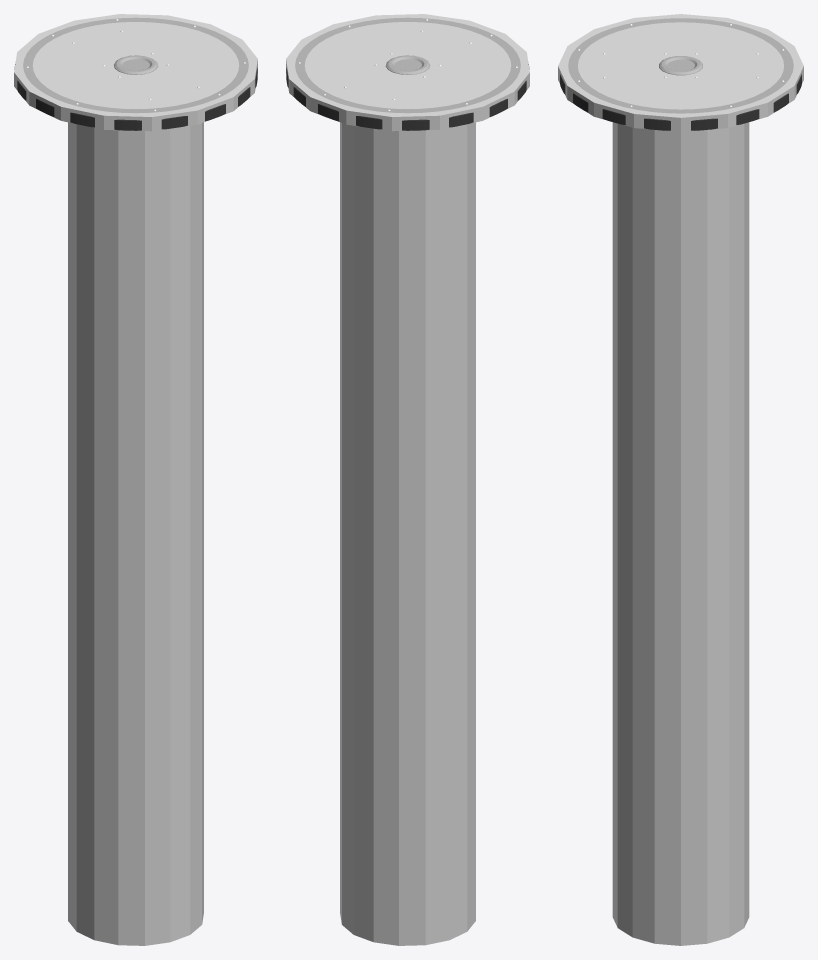
Rendered from Arena_Two_Factions.fbx.
The picture shows the model from 3 angles, left to right: view 1: azimuth 30°, elevation 25°; view 2: azimuth 150°, elevation 25°; view 3: azimuth 270°, elevation 25°; orthographic projection.
Parts seen in each view (by area): view 1: Arena_Platform_Col, Arena_Two_Factions; view 2: Arena_Platform_Col, Arena_Two_Factions; view 3: Arena_Platform_Col, Arena_Two_Factions.
Boxes of the visible parts, x1=… form: Arena_Platform_Col: x1=14, y1=14, x2=257, y2=945; Arena_Two_Factions: x1=14, y1=17, x2=257, y2=130; Arena_Platform_Col: x1=286, y1=14, x2=529, y2=945; Arena_Two_Factions: x1=286, y1=17, x2=529, y2=130; Arena_Platform_Col: x1=558, y1=14, x2=803, y2=945; Arena_Two_Factions: x1=560, y1=18, x2=801, y2=130.
Bounding box in the file's own units: 935 × 3580 × 935.
